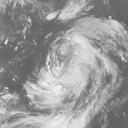cyclone: (30, 18, 122, 107)
